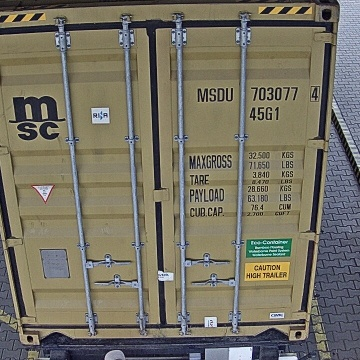serial_id: (197, 86, 320, 101)
